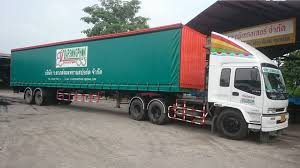truck: (9, 22, 289, 140)
